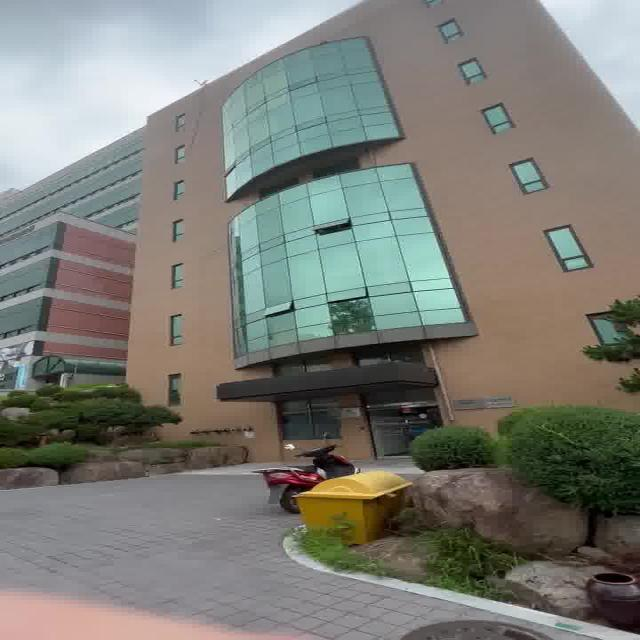building: (169, 28, 576, 420)
